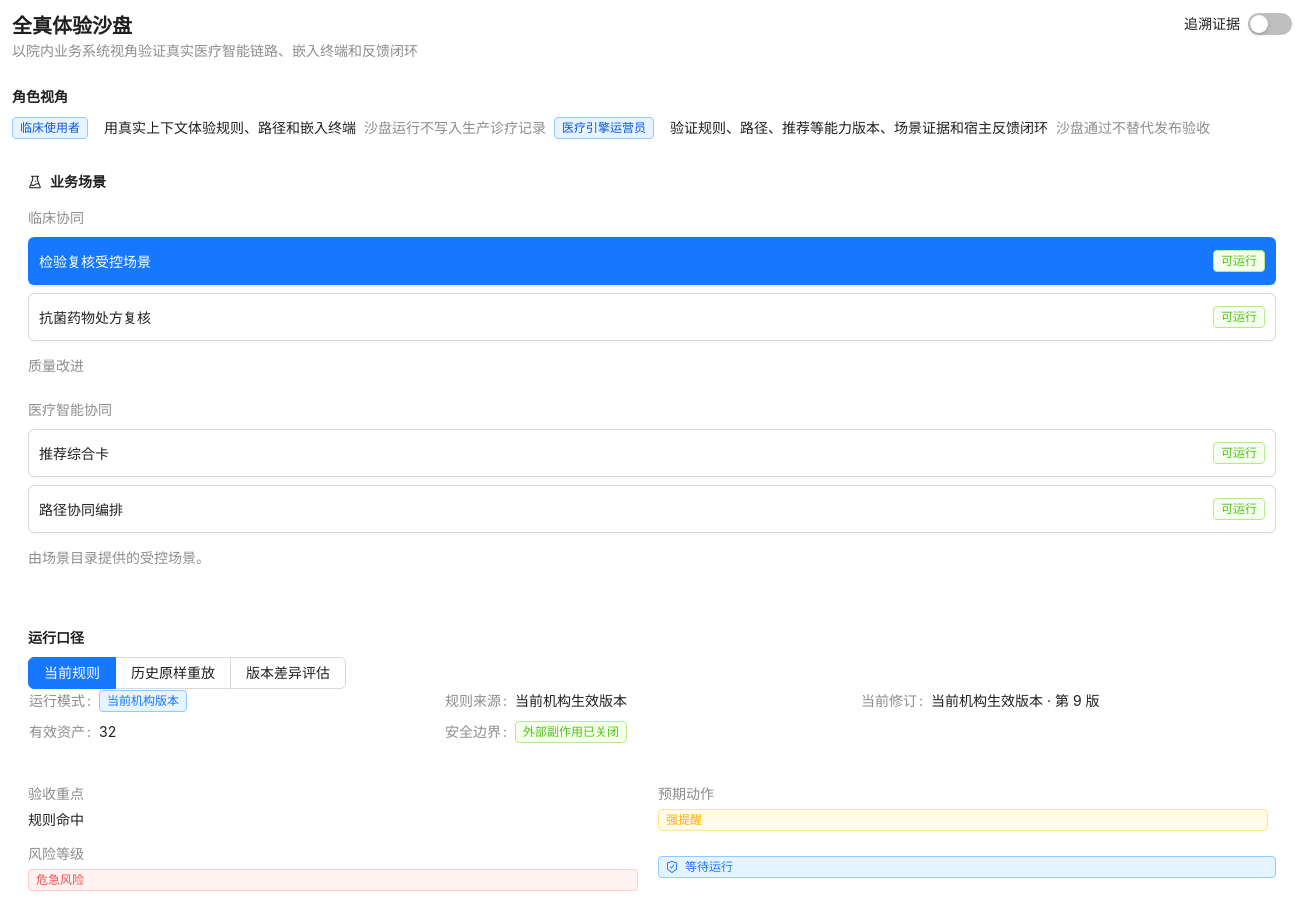
SandboxHost › shows the current institution effective version without exposing package selectors
Expected: the text "当前机构生效版本" is shown, [515,692,627,709]
Expected: the text "当前机构生效版本 · 第 9 版" is shown, [931,692,1100,709]
Click the switch named "证据详情" at coordinates (1270, 24), box [1248,13,1292,35]
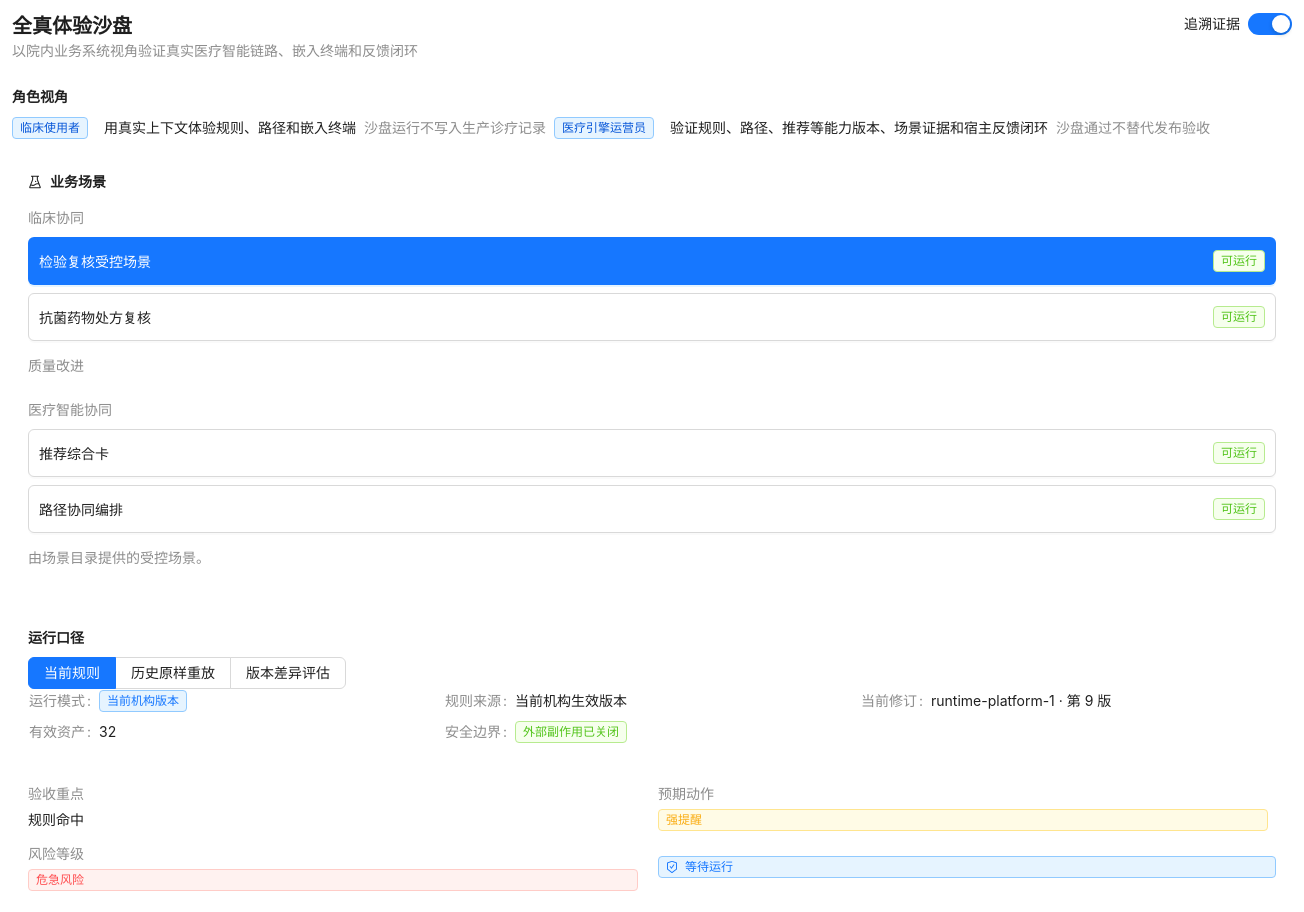
Expected: the text "runtime-platform-1 · 第 9 版" is shown, [931,692,1111,709]
